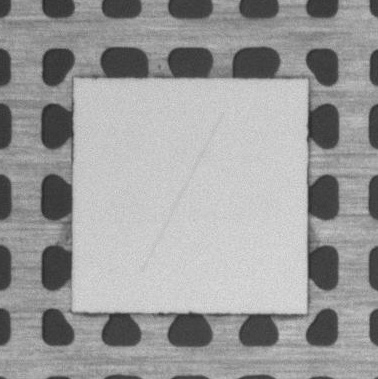DIE_CRACK: (142, 113, 222, 272)
